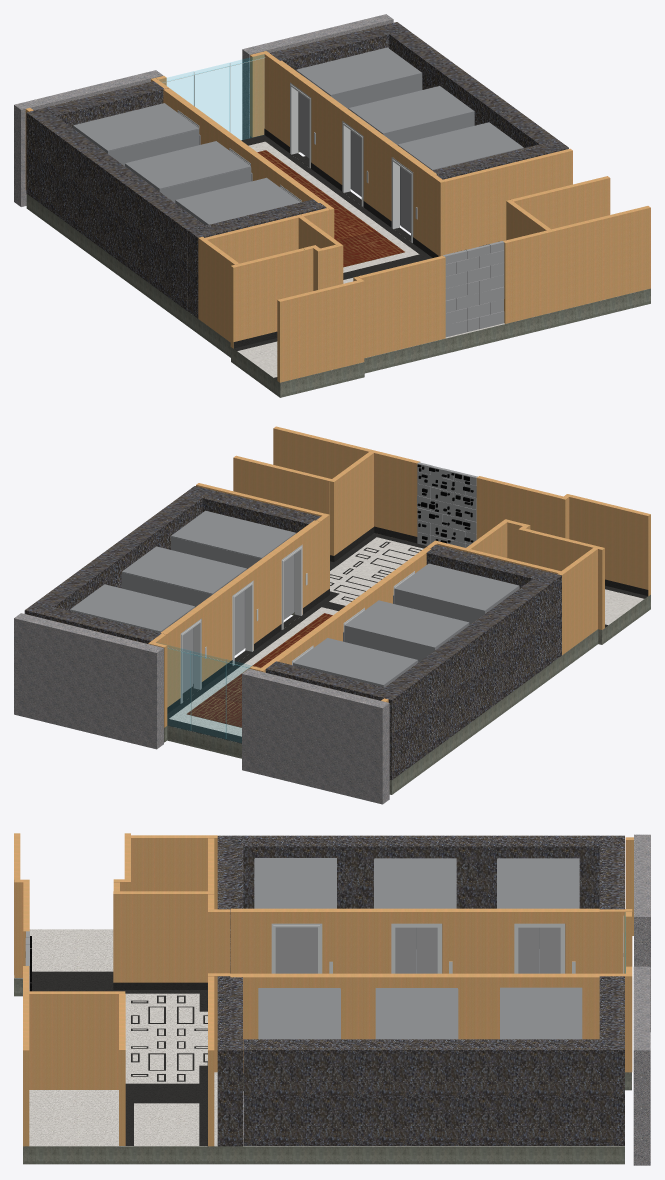
Rendered from MGM_N5-v2.glb.
3 renders of one model, top to bottom at view 1: azimuth 30°, elevation 25°; view 2: azimuth 150°, elevation 25°; view 3: azimuth 270°, elevation 25°, orthographic. The views are drawn at different scales.
Parts seen in each view (by area): view 1: Wall Walls <347849 Wall-Fnd_200Blk 4<, FamilyInstance Specialty Equipment Otis_Gen3_Premier_lift_13, Wall Walls <339218 Wall-Fnd_600Blk 2<, Floor Floors <449982 Floor-Grnd-Susp_65Scr-80Ins-100Blk-75PC, Wall Walls <381742 Wall-Fnd_400Con_Footing 2<, Panel Curtain Panels System Panel <431983 Glazed<, FamilyInstance Floors Floors 1 <463168 Floors 1<, FamilyInstance Floors Floors 2 <482905 Floors 2<; view 2: Wall Walls <347849 Wall-Fnd_200Blk 4<, FamilyInstance Specialty Equipment Otis_Gen3_Premier_lift_13, Wall Walls <381742 Wall-Fnd_400Con_Footing 2<, Wall Walls <339218 Wall-Fnd_600Blk 2<, Floor Floors <449982 Floor-Grnd-Susp_65Scr-80Ins-100Blk-75PC, Panel Curtain Panels System Panel <431983 Glazed<, FamilyInstance Floors Floors 1 <463168 Floors 1<, FamilyInstance Floors Floors 2 <482905 Floors 2<; view 3: Wall Walls <339218 Wall-Fnd_600Blk 2<, Wall Walls <347849 Wall-Fnd_200Blk 4<, FamilyInstance Specialty Equipment Otis_Gen3_Premier_lift_13, Floor Floors <449982 Floor-Grnd-Susp_65Scr-80Ins-100Blk-75PC, FamilyInstance Floors Floors 1 <463168 Floors 1<, Wall Walls <381742 Wall-Fnd_400Con_Footing 2<.
Part boxes in pixels (x1,y1,x2,y2): Wall Walls <347849 Wall-Fnd_200Blk 4<: [25, 51, 650, 382]; FamilyInstance Specialty Equipment Otis_Gen3_Premier_lift_13: [73, 47, 523, 337]; Wall Walls <339218 Wall-Fnd_600Blk 2<: [26, 22, 568, 318]; Floor Floors <449982 Floor-Grnd-Susp_65Scr-80Ins-100Blk-75PC: [26, 136, 650, 397]; Wall Walls <381742 Wall-Fnd_400Con_Footing 2<: [14, 14, 393, 206]; Panel Curtain Panels System Panel <431983 Glazed<: [162, 54, 264, 139]; FamilyInstance Floors Floors 1 <463168 Floors 1<: [233, 128, 439, 380]; FamilyInstance Floors Floors 2 <482905 Floors 2<: [257, 150, 404, 267]; Wall Walls <347849 Wall-Fnd_200Blk 4<: [148, 426, 650, 727]; FamilyInstance Specialty Equipment Otis_Gen3_Premier_lift_13: [70, 462, 519, 703]; Wall Walls <381742 Wall-Fnd_400Con_Footing 2<: [14, 613, 389, 804]; Wall Walls <339218 Wall-Fnd_600Blk 2<: [24, 486, 561, 779]; Floor Floors <449982 Floor-Grnd-Susp_65Scr-80Ins-100Blk-75PC: [164, 537, 650, 794]; Panel Curtain Panels System Panel <431983 Glazed<: [167, 646, 250, 742]; FamilyInstance Floors Floors 1 <463168 Floors 1<: [167, 526, 648, 743]; FamilyInstance Floors Floors 2 <482905 Floors 2<: [186, 613, 332, 727]; Wall Walls <339218 Wall-Fnd_600Blk 2<: [217, 835, 624, 1146]; Wall Walls <347849 Wall-Fnd_200Blk 4<: [14, 833, 633, 1146]; FamilyInstance Specialty Equipment Otis_Gen3_Premier_lift_13: [25, 858, 582, 1039]; Floor Floors <449982 Floor-Grnd-Susp_65Scr-80Ins-100Blk-75PC: [14, 929, 631, 1164]; FamilyInstance Floors Floors 1 <463168 Floors 1<: [30, 971, 207, 1145]; Wall Walls <381742 Wall-Fnd_400Con_Footing 2<: [633, 834, 650, 1165].
Size of the model in its own units: 12.1 by 3.01 by 15.01.
11 materials, 11 textured.
